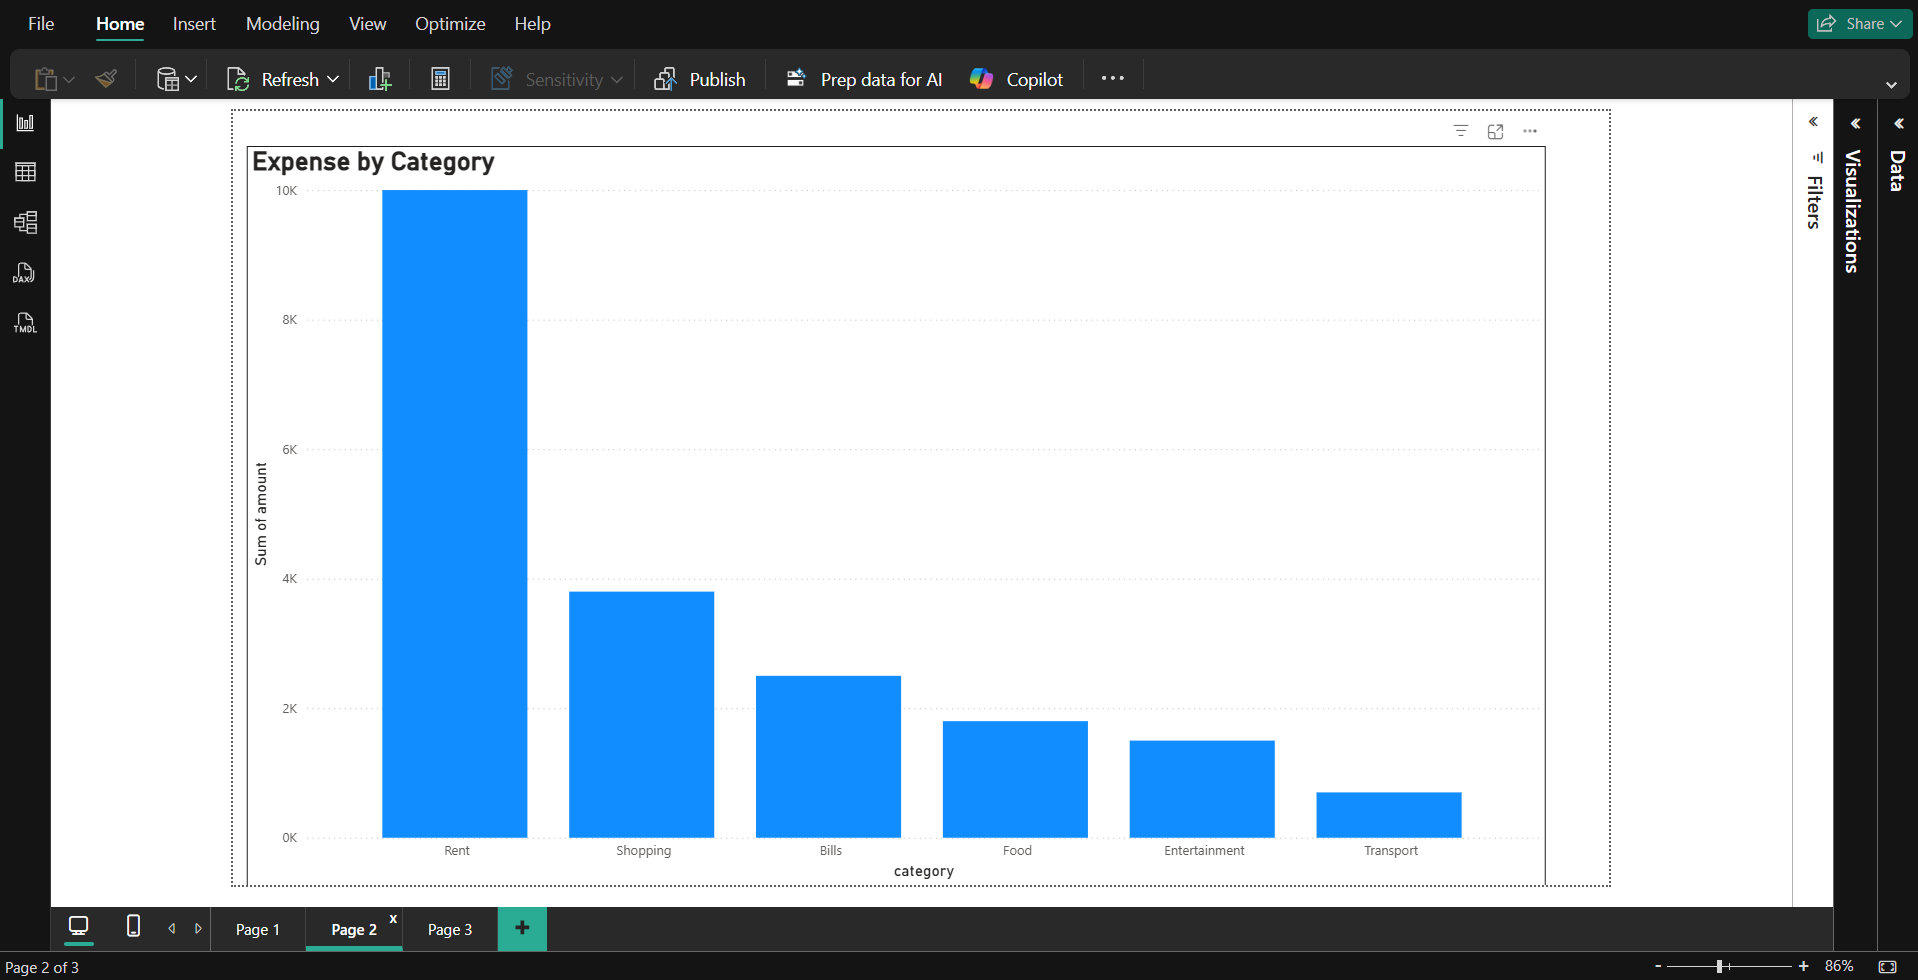

The page's visual inventory and layout, read from the dashboard file:
{"tool":"powerbi","page":{"name":"Page 2","canvas":[1280,720],"ordinal":1},"visuals":[{"type":"clusteredColumnChart","title":"Expense by Category","fields":{"Category":["finance.category"],"Y":["Sum(finance.amount)"]},"box":[12.3,32.9,1208.9,687.5],"z":0}]}

Visuals, with their boxes on the page's 1280x720 design canvas (x1, y1, x2, y2). These are canvas units, not pixel positions in the 1918x980 screenshot, which may show the page scaled, cropped or inside an application window:
"Expense by Category" clusteredColumnChart: bbox(12, 33, 1221, 720)
